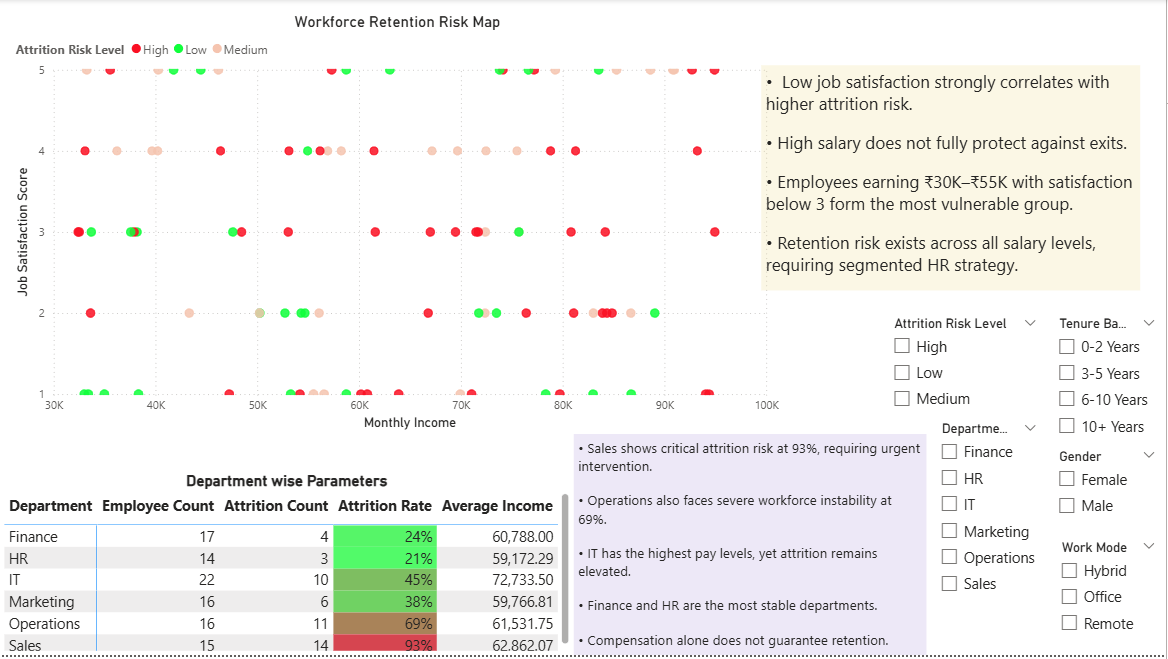

What the dashboard file says about the page in this screenshot:
{"tool":"powerbi","page":{"name":"Dashboard 2","canvas":[1280,720],"ordinal":1},"visuals":[{"type":"scatterChart","title":"Workforce Retention Risk Map","fields":{"X":["FactCompensation.Monthly Income"],"Y":["FactPerformance.Job Satisfaction Score"],"Series":["FactAttrition.Attrition Risk Level"],"Size":["CountNonNull(FactPerformance.Absenteeism Rate)"]},"box":[12.3,15.1,848,462.4],"z":0},{"type":"textbox","box":[835.7,72.7,415.8,247],"z":1},{"type":"pivotTable","title":"Department wise Parameters","fields":{"Rows":["DimEmployees.Department"],"Values":["DimEmployees.Employee Count by Status","DimEmployees.Attrition Count","DimEmployees.Attrition Rate %","DimEmployees.Average Income Test"]},"box":[0,518.7,629.8,201.7],"z":2},{"type":"slicer","fields":{"Values":["DimEmployees.Department"]},"box":[1020.9,458.3,129,204.5],"z":3},{"type":"slicer","fields":{"Values":["FactAttrition.Attrition Risk Level"]},"box":[968.8,343.1,181.1,115.3],"z":4},{"type":"slicer","fields":{"Values":["DimEmployees.Tenure Band"]},"box":[1149.9,343.1,130.4,146.8],"z":5},{"type":"slicer","fields":{"Values":["DimEmployees.Gender"]},"box":[1149.9,488.5,130.4,115.3],"z":6},{"type":"slicer","fields":{"Values":["FactCompensation.Work Mode"]},"box":[1152.7,588.7,127.6,116.6],"z":7},{"type":"textbox","box":[629.8,477.5,387,242.9],"z":8}]}

Visuals, with their boxes in screenshot pixels (x1, y1, x2, y2), scaled from the page's 1280x720 canvas onto the 1168x659 screenshot:
"Workforce Retention Risk Map" scatterChart: (11,14,785,437)
textbox: (763,67,1142,293)
"Department wise Parameters" pivotTable: (0,475,575,658)
slicer - DimEmployees.Department: (932,419,1049,607)
slicer - FactAttrition.Attrition Risk Level: (884,314,1049,420)
slicer - DimEmployees.Tenure Band: (1049,314,1167,448)
slicer - DimEmployees.Gender: (1049,447,1167,553)
slicer - FactCompensation.Work Mode: (1052,539,1167,646)
textbox: (575,437,928,658)
